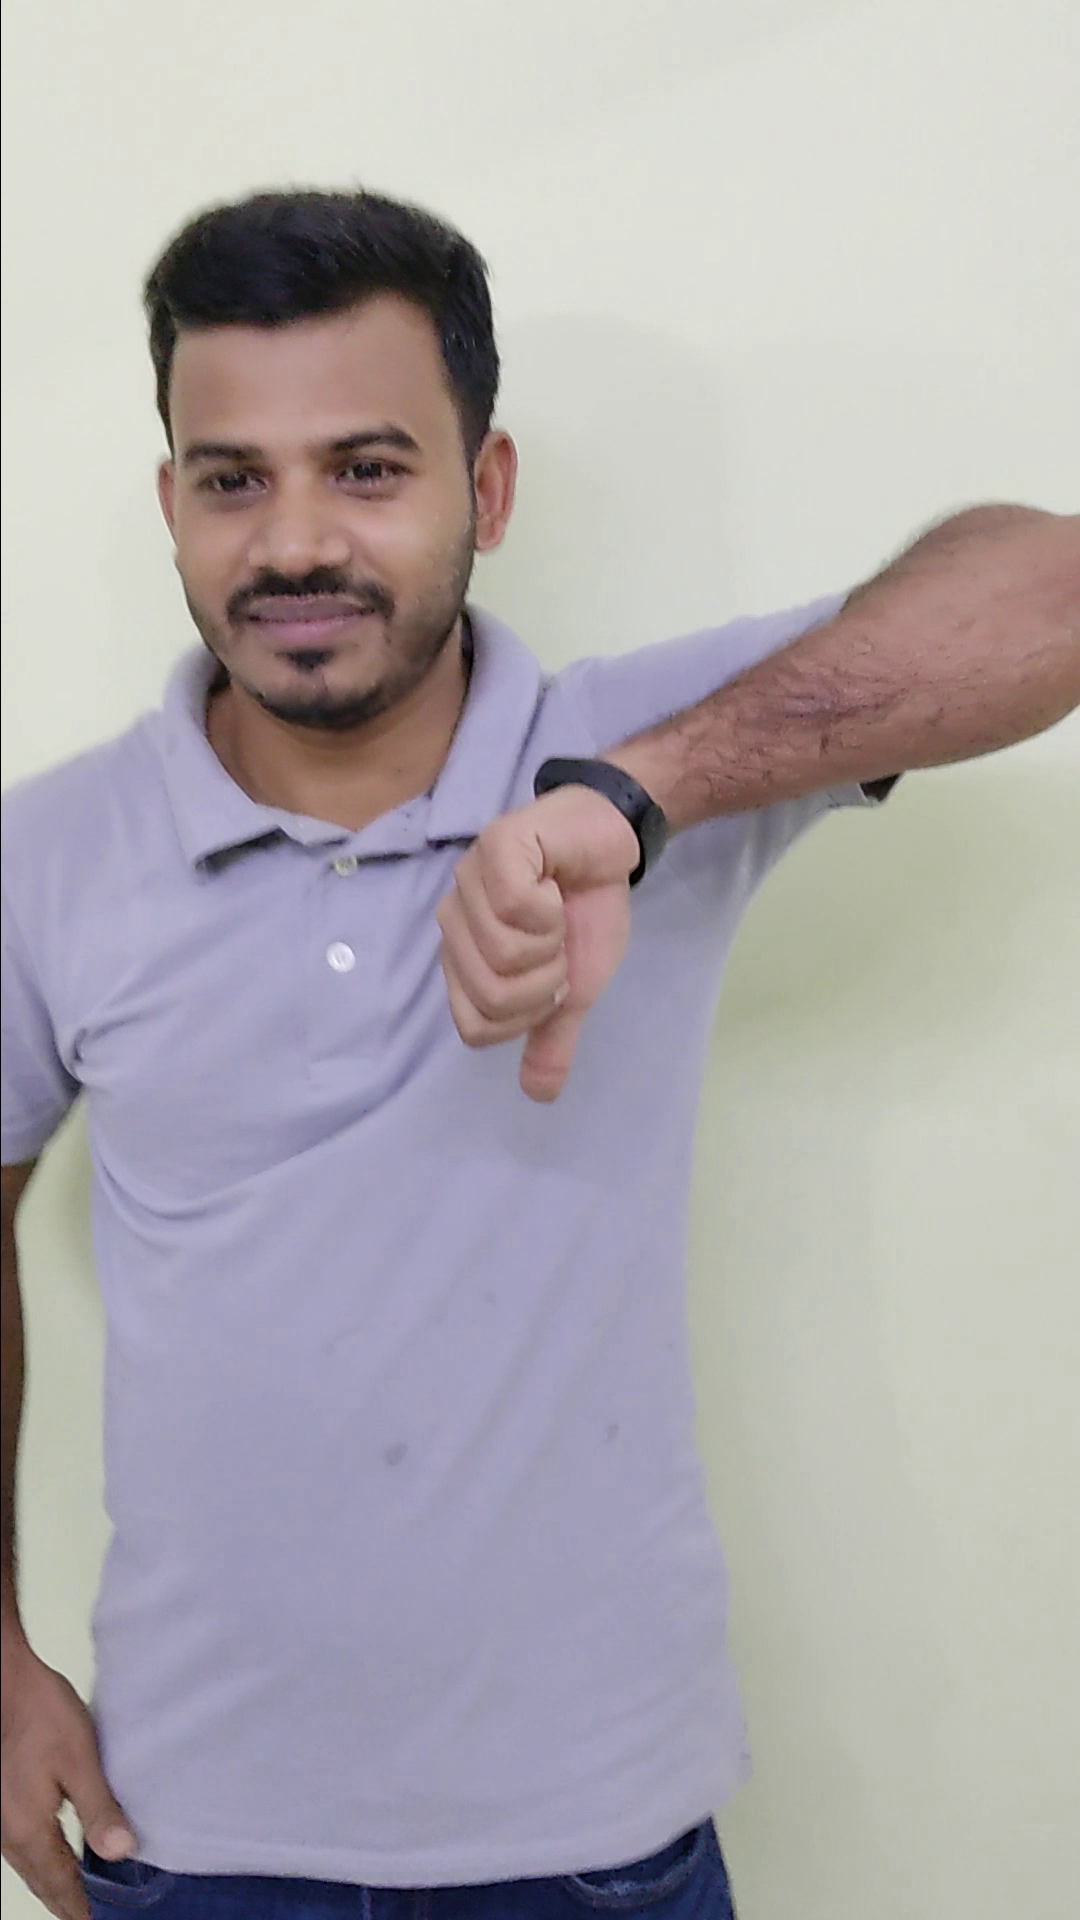Dislike: (423, 742, 651, 1117)
None: (0, 1622, 165, 1920)
